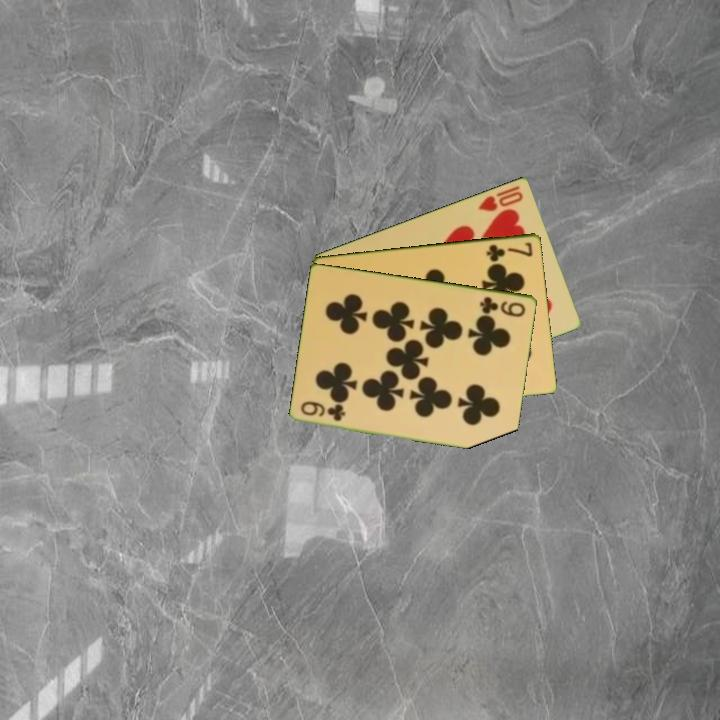10h: (475, 182, 526, 214)
7c: (483, 238, 536, 263)
9c: (476, 292, 529, 319), (297, 398, 349, 424)
